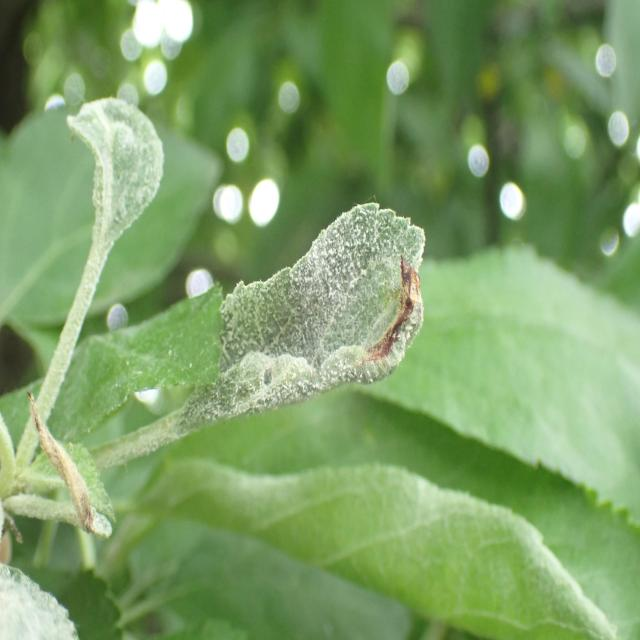Powdery_mildew: (164, 185, 436, 432), (51, 48, 164, 321)
